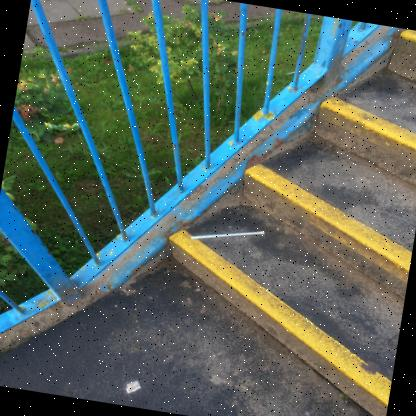Plastic straw: (190, 231, 264, 239)
Unlabeled litter: (125, 380, 140, 393)
